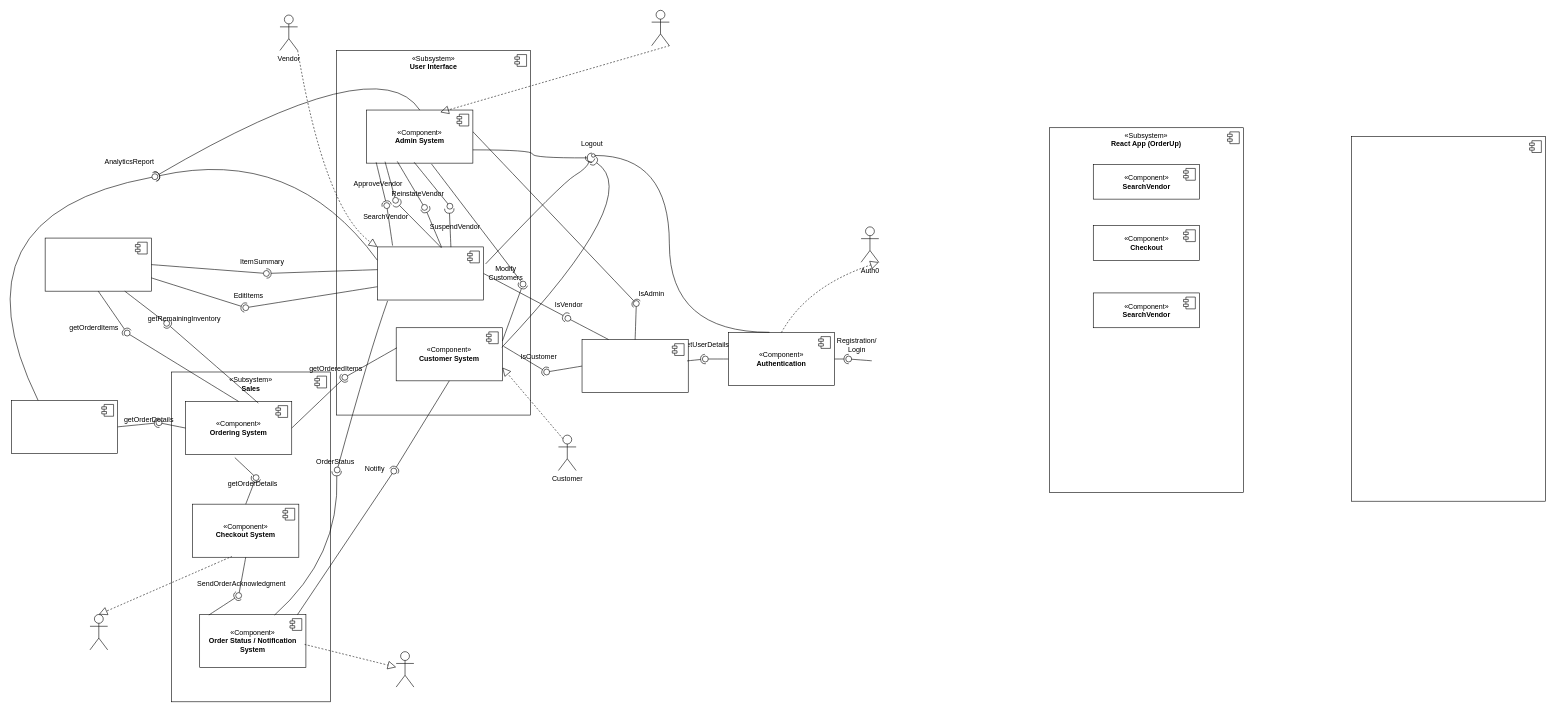
This 1556x712 diagram has some shape labels left out. The centre of each missing label's shape, as x and y in pixels:
Admin: point 660,28
PayStack: point 98,632
VAPID Browser Push service: point 405,669
«Component» Analytics System: point 64,426
«Component» Menu / Inventory Management System: point 98,264
«Component» User roles: point 634,366
«Component» Vendor System: point 430,273
«Subsystem» Azure Database: point 1448,318
